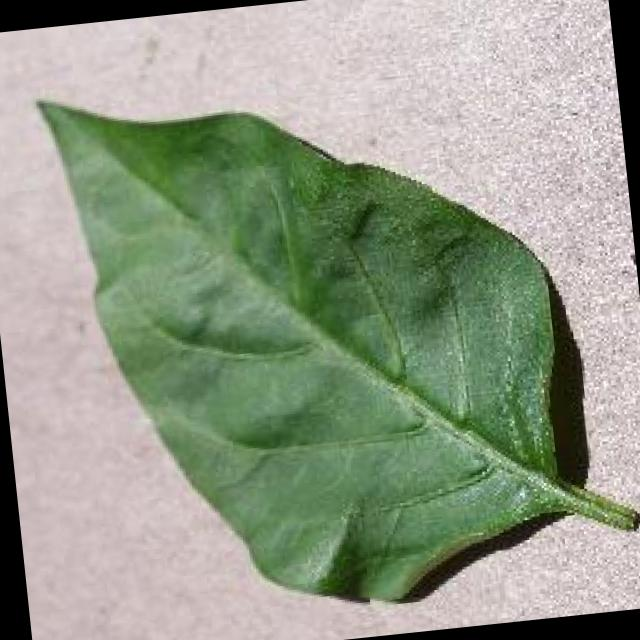Chilli_Healthy: (32, 38, 640, 636)
